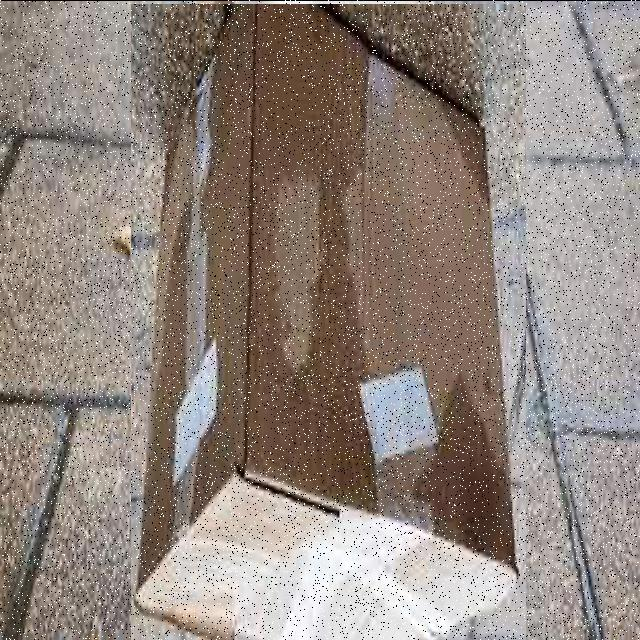defect: (131, 3, 526, 640)
